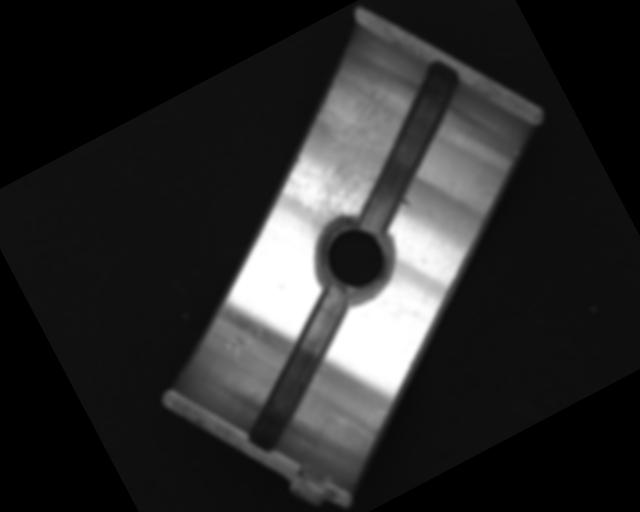bruise: (222, 332, 252, 361), (397, 195, 412, 212)
gap: (309, 56, 506, 239), (206, 284, 391, 455)
hole: (299, 205, 410, 316)
scratch: (246, 55, 442, 251)
